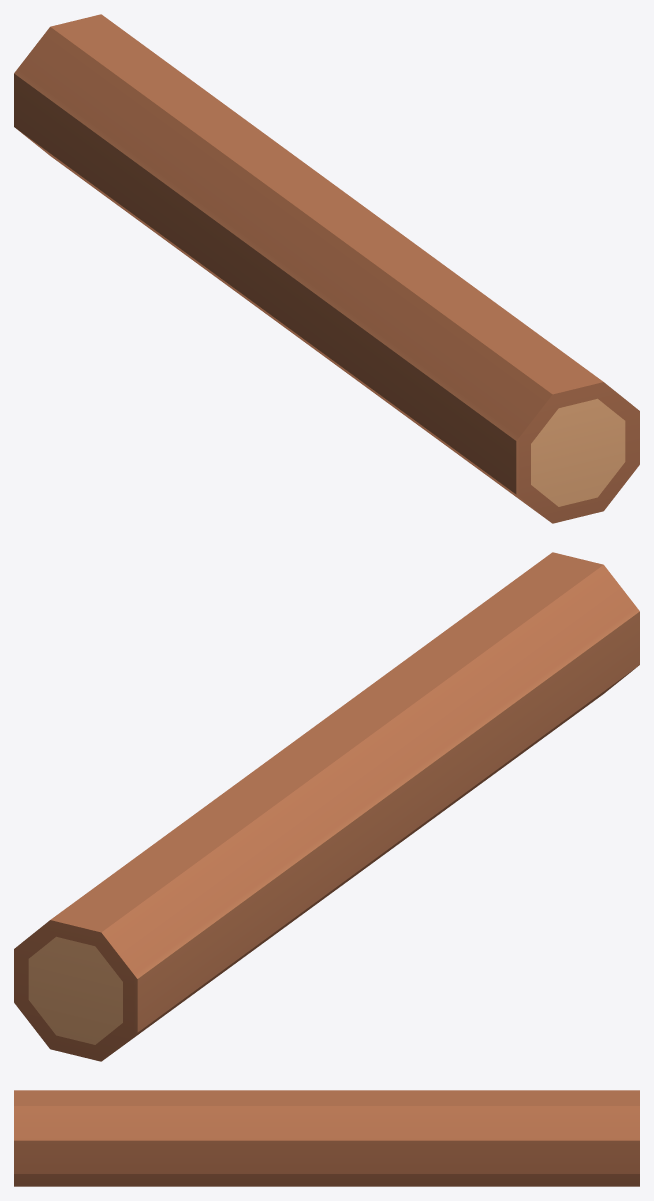
Rendered from tree trunk.fbx.
The picture shows the model from 3 angles, top to bottom: view 1: azimuth 30°, elevation 25°; view 2: azimuth 150°, elevation 25°; view 3: azimuth 270°, elevation 25°; orthographic projection. The views are drawn at different scales.
Visible parts, largest first — view 1: tree trunk; view 2: tree trunk; view 3: tree trunk.
Part boxes in pixels (x1,y1,x2,y2): tree trunk: (14, 14, 639, 523); tree trunk: (14, 552, 639, 1061); tree trunk: (14, 1090, 639, 1186).
Size of the model in its own units: 38.72 by 38.72 by 273.
